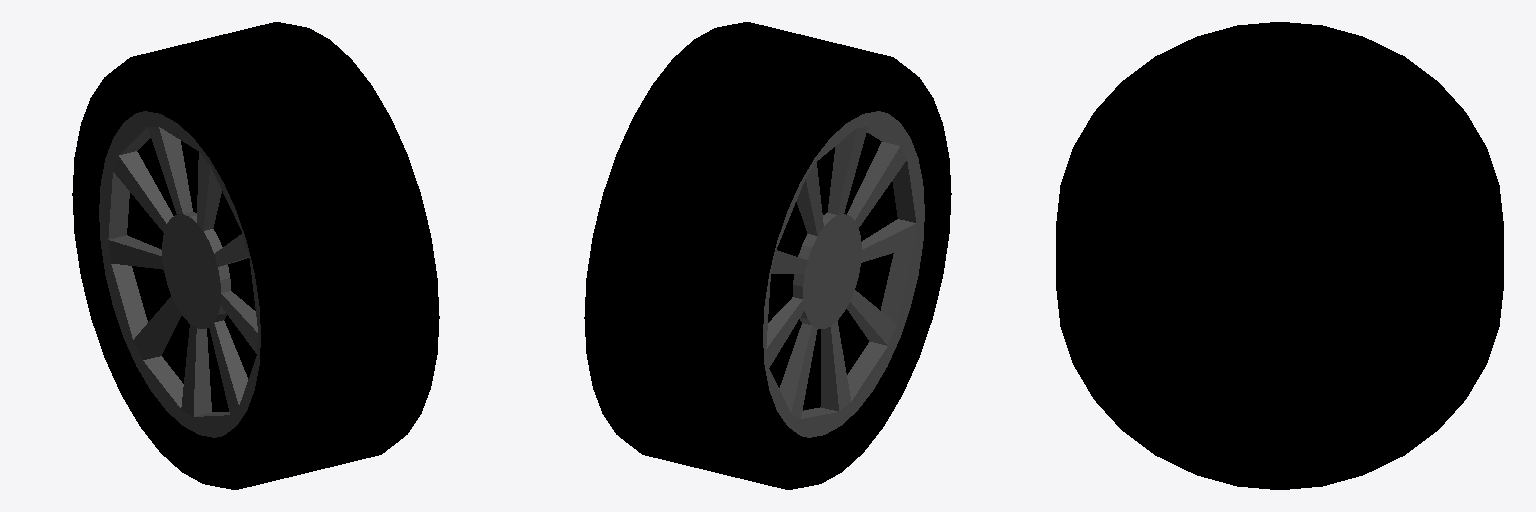
Rendered from front_left_tire.obj.
3 renders of one model, left to right at view 1: azimuth 30°, elevation 25°; view 2: azimuth 150°, elevation 25°; view 3: azimuth 270°, elevation 25°, orthographic.
Visible parts, largest first — view 1: s15-wheel.Ft.L; view 2: s15-wheel.Ft.L; view 3: s15-wheel.Ft.L.
Boxes of the visible parts, <box> form: s15-wheel.Ft.L: <box>72,22,439,489</box>; s15-wheel.Ft.L: <box>584,22,951,489</box>; s15-wheel.Ft.L: <box>1056,22,1503,489</box>.
Bounding box in the file's own units: 0.269 × 0.6616 × 0.6616.